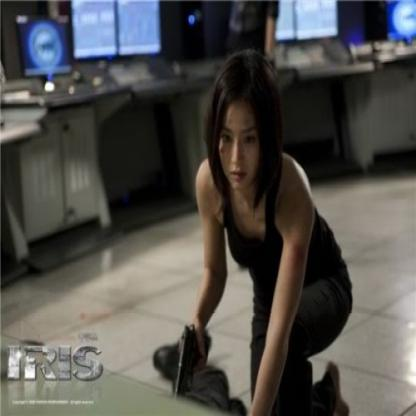Guns: (170, 320, 212, 397)
